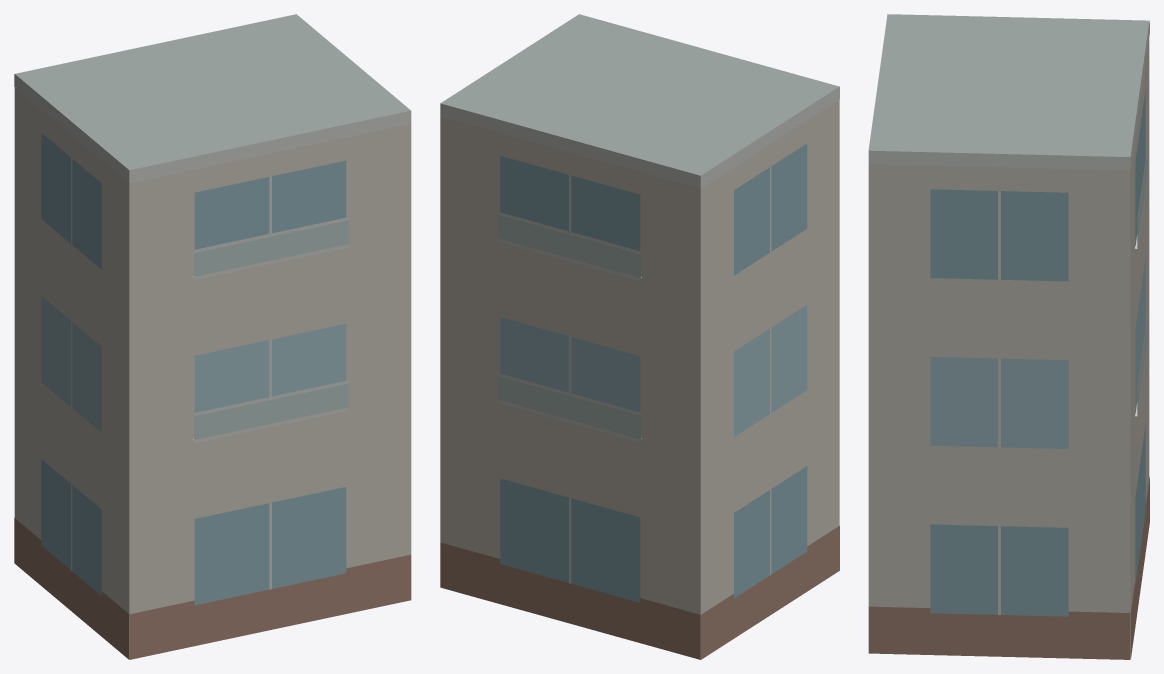
File: survey-upis-32601366.glb
The picture shows the model from 3 angles, left to right: view 1: azimuth 30°, elevation 25°; view 2: azimuth 150°, elevation 25°; view 3: azimuth 270°, elevation 25°; orthographic projection. The views are drawn at different scales.
Visible parts, largest first — view 1: survey-upis-32601366.tmp; view 2: survey-upis-32601366.tmp; view 3: survey-upis-32601366.tmp.
Part boxes in pixels (x1=…): survey-upis-32601366.tmp: x1=14, y1=14, x2=411, y2=659; survey-upis-32601366.tmp: x1=440, y1=14, x2=839, y2=659; survey-upis-32601366.tmp: x1=868, y1=14, x2=1149, y2=659.
Bounding box in the file's own units: 5.6 × 9.15 × 4.65.
